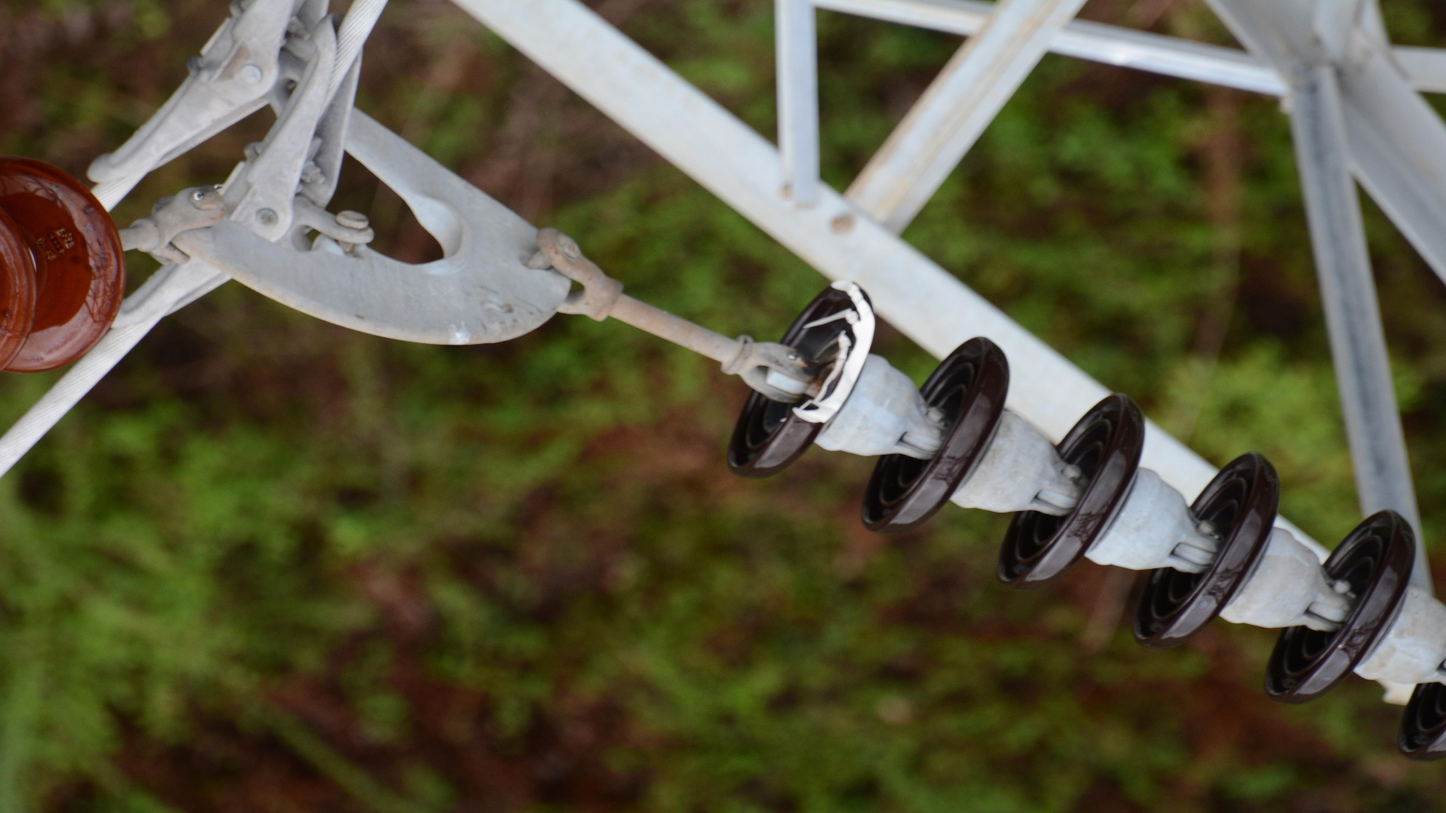insulator: (718, 274, 1446, 769), (1, 150, 134, 384)
insulator_breakage: (787, 275, 880, 429)
